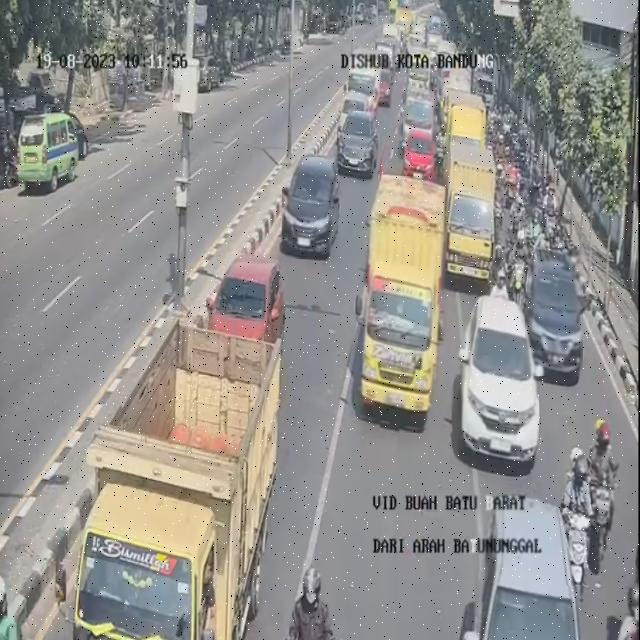bunch of motorcycle: (493, 125, 562, 258)
cars: (472, 494, 586, 638), (454, 293, 539, 467), (211, 254, 286, 360), (525, 250, 583, 376), (282, 157, 338, 259), (338, 108, 380, 179), (403, 90, 436, 144), (378, 69, 390, 107)
motorcycle: (560, 446, 598, 586), (593, 418, 623, 580), (284, 560, 342, 640), (607, 579, 639, 640), (508, 233, 528, 308)
truck: (69, 351, 278, 636), (358, 176, 446, 433), (445, 108, 498, 288), (349, 51, 388, 111), (443, 90, 482, 129), (444, 64, 471, 109), (406, 53, 428, 96)
